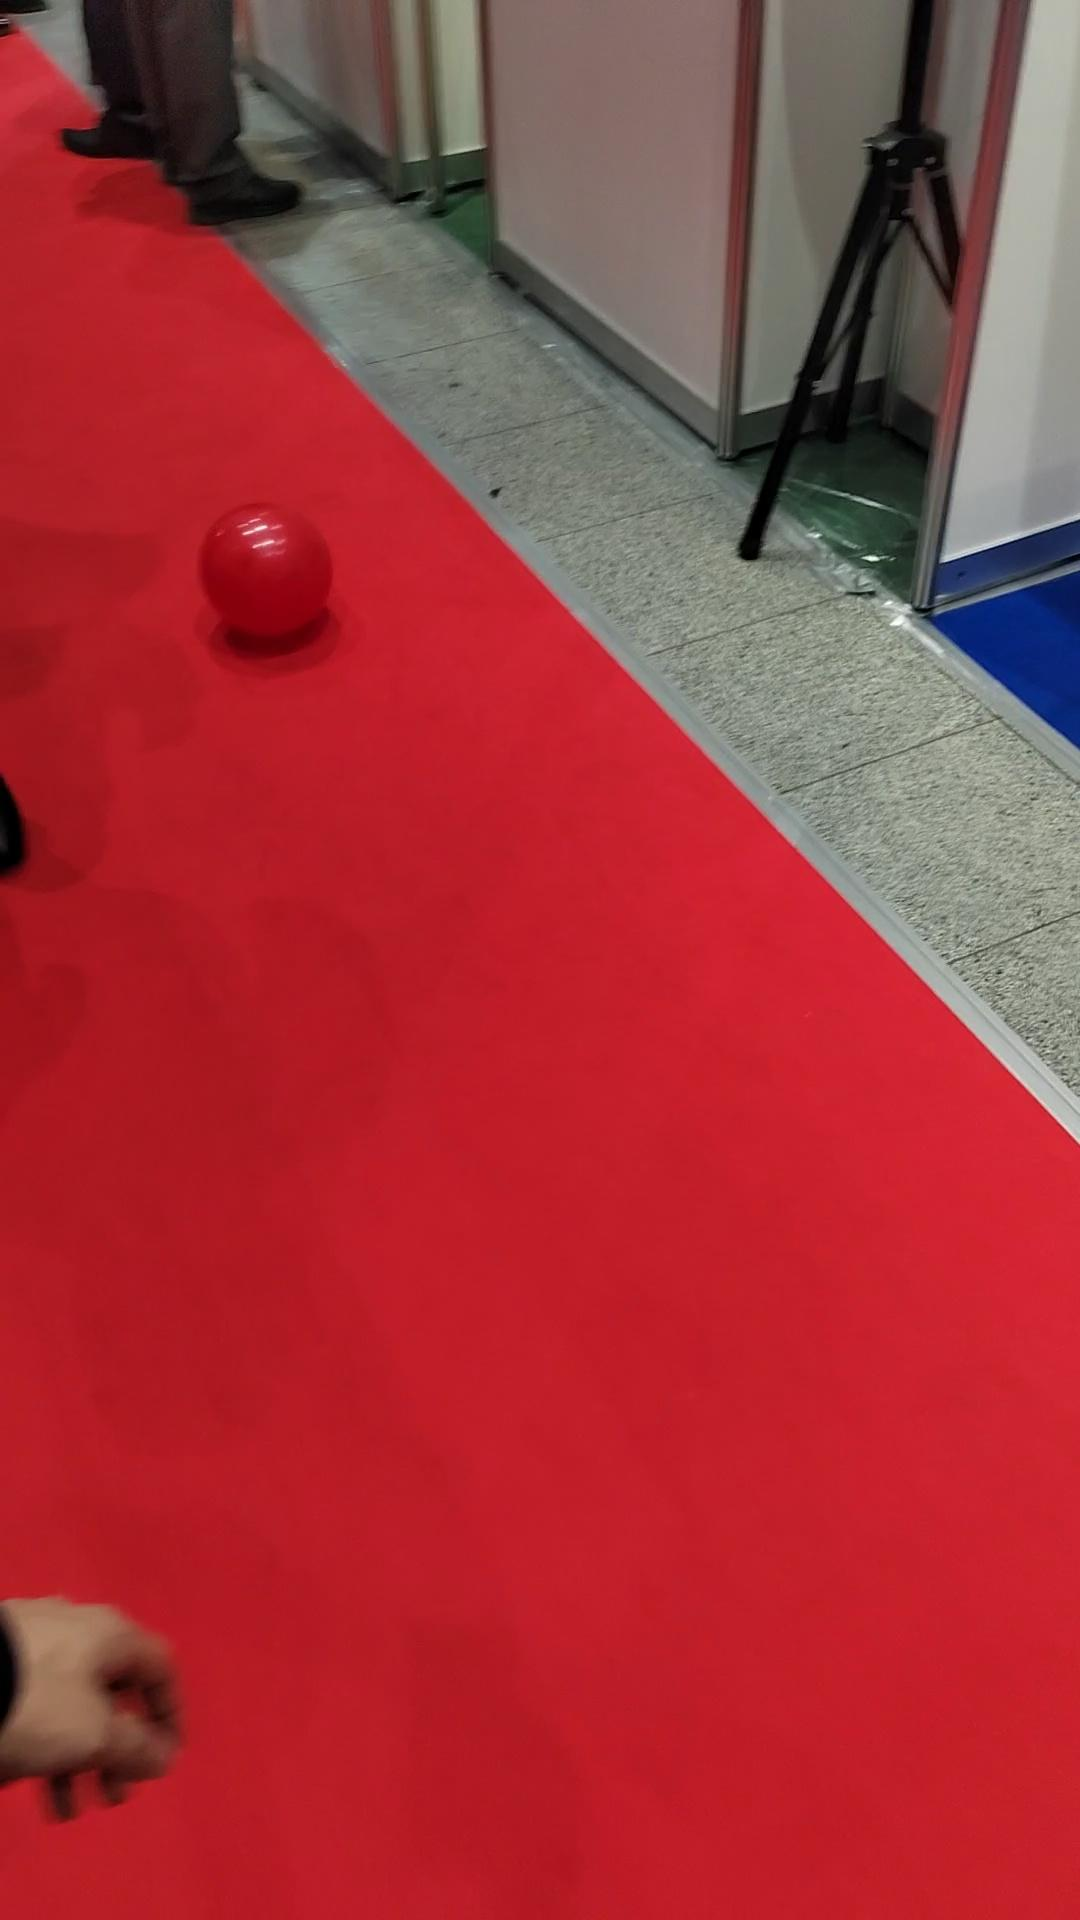red: (198, 501, 334, 637)
